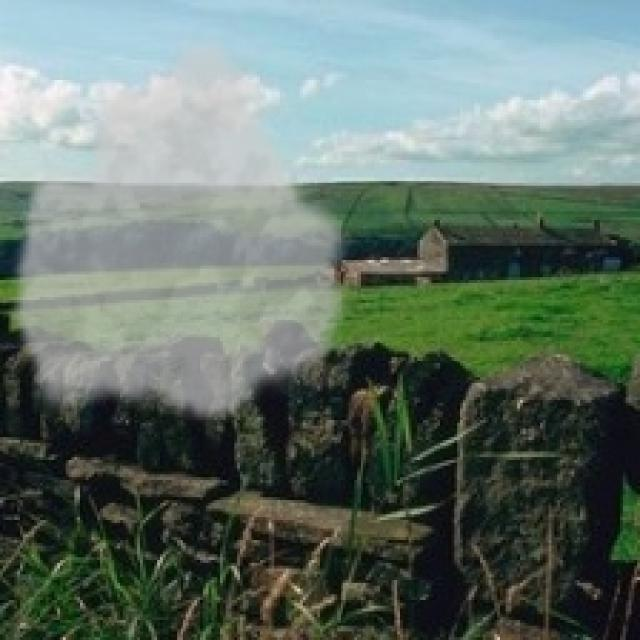Smoke: (6, 31, 357, 426)
